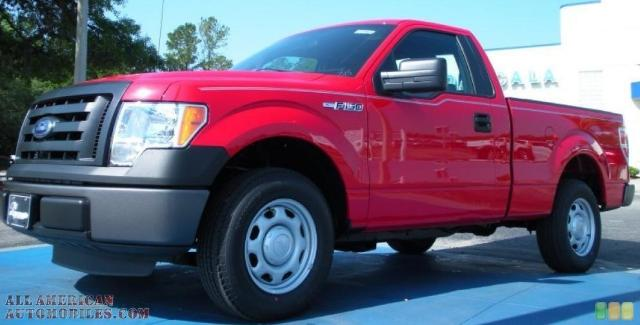pickup-truck: (1, 19, 636, 320)
